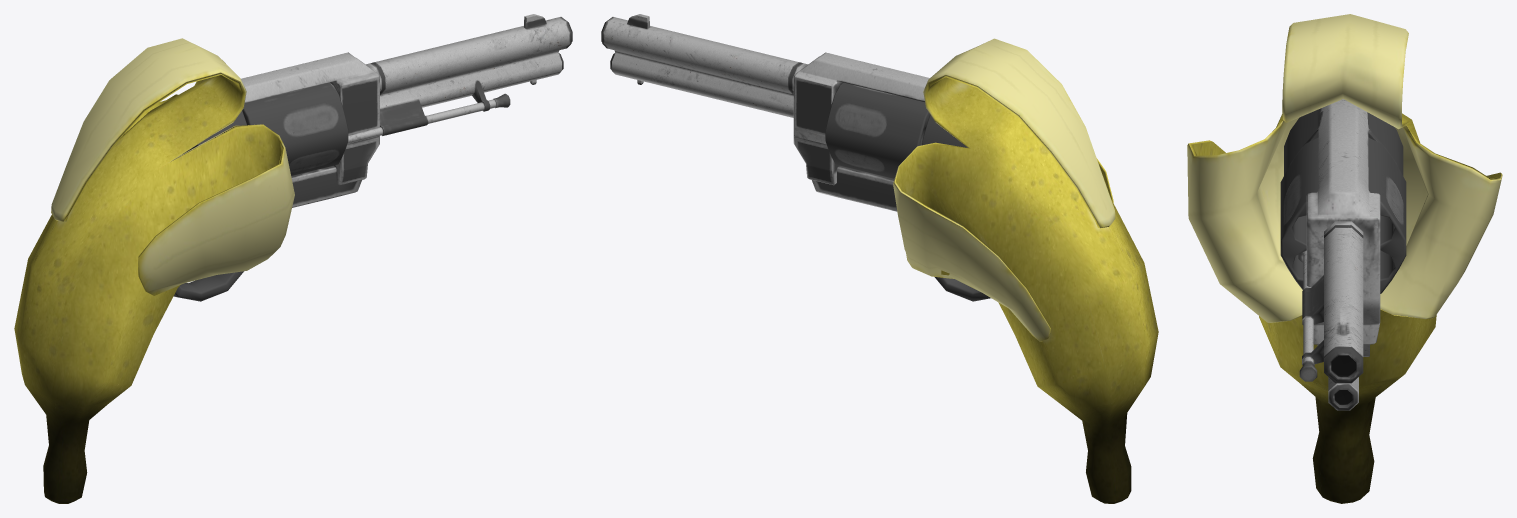
Rendered from banana_pistol.glb.
3 renders of one model, left to right at view 1: azimuth 30°, elevation 25°; view 2: azimuth 150°, elevation 25°; view 3: azimuth 270°, elevation 25°, orthographic. The views are drawn at different scales.
Visible parts, largest first — view 1: Banana_LP, Cev_LP, Telo_LP, Bure_LP, OkvirObaraca_LP, Punjac_LP; view 2: Banana_LP, Cev_LP, Telo_LP, Bure_LP, OkvirObaraca_LP; view 3: Banana_LP, Telo_LP, Cev_LP, Bure_LP, Punjac_LP.
Boxes of the visible parts, <box> form: Banana_LP: <box>14,38,294,503</box>; Cev_LP: <box>366,17,572,135</box>; Telo_LP: <box>182,52,379,207</box>; Bure_LP: <box>242,82,348,175</box>; OkvirObaraca_LP: <box>173,271,243,301</box>; Punjac_LP: <box>347,93,510,143</box>; Banana_LP: <box>893,38,1158,503</box>; Cev_LP: <box>601,17,807,117</box>; Telo_LP: <box>793,52,967,211</box>; Bure_LP: <box>825,82,929,178</box>; OkvirObaraca_LP: <box>934,277,990,301</box>; Banana_LP: <box>1187,14,1502,503</box>; Telo_LP: <box>1284,99,1403,356</box>; Cev_LP: <box>1302,221,1363,410</box>; Bure_LP: <box>1280,137,1406,293</box>; Punjac_LP: <box>1298,250,1317,381</box>.
Size of the model in its own units: 1.31 by 0.9656 by 0.5006.
2 materials, 2 textured.
